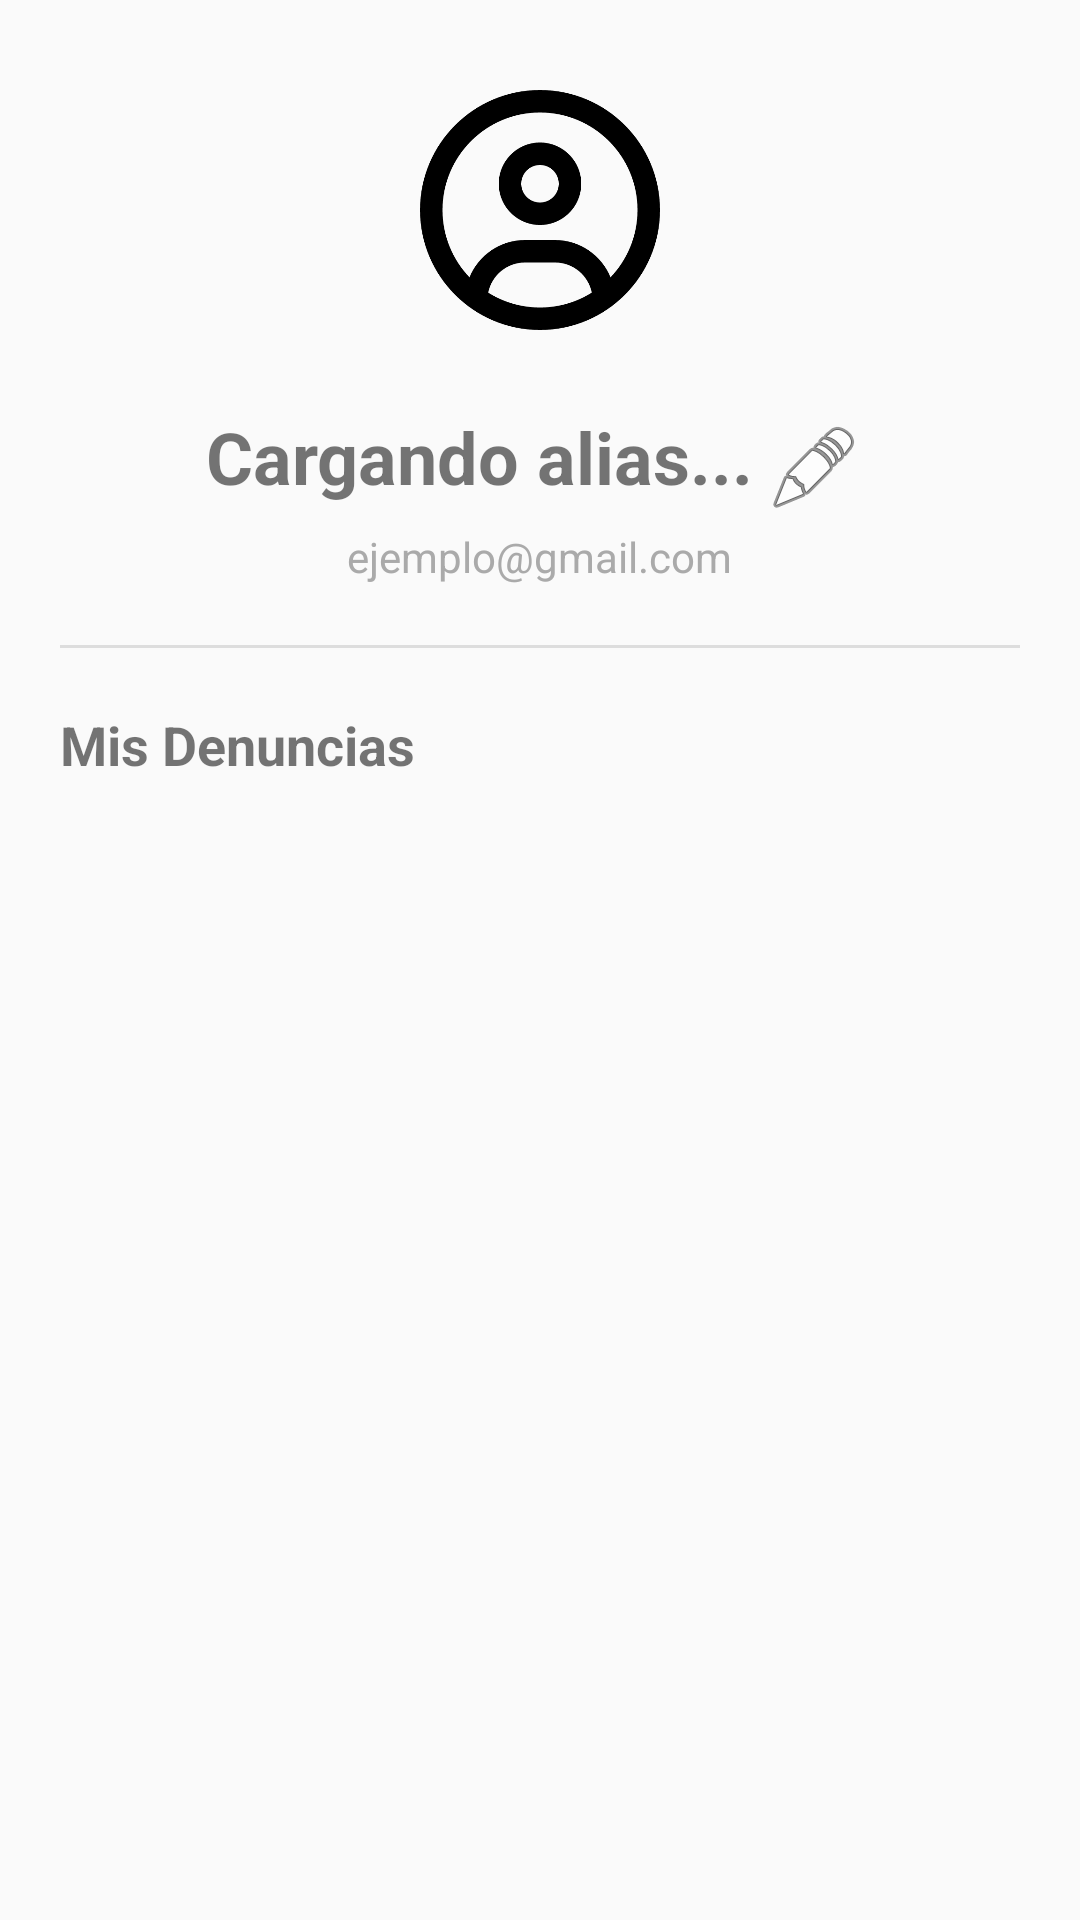

Screen size 1080 x 1920. Icon name, then its box in pixels as (x1, y1, x2, y2):
edit: (773, 427, 854, 508)
user: (420, 90, 660, 330)
